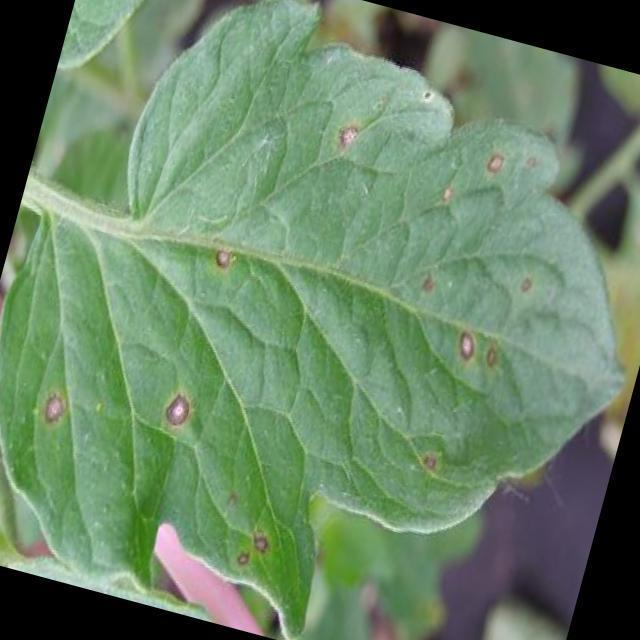Septoria: (412, 117, 576, 306), (409, 300, 522, 485), (316, 102, 387, 186), (224, 518, 284, 579), (152, 386, 205, 446), (36, 390, 72, 439), (204, 240, 243, 277)
